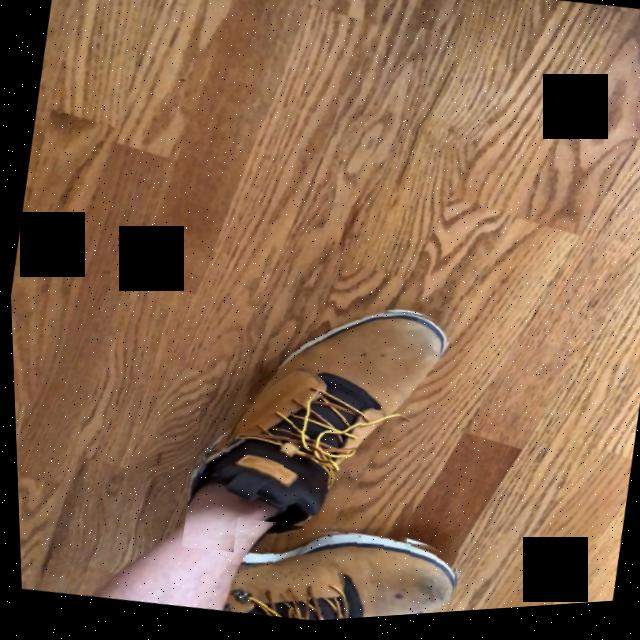shoe: (178, 317, 444, 555), (222, 539, 449, 624)
